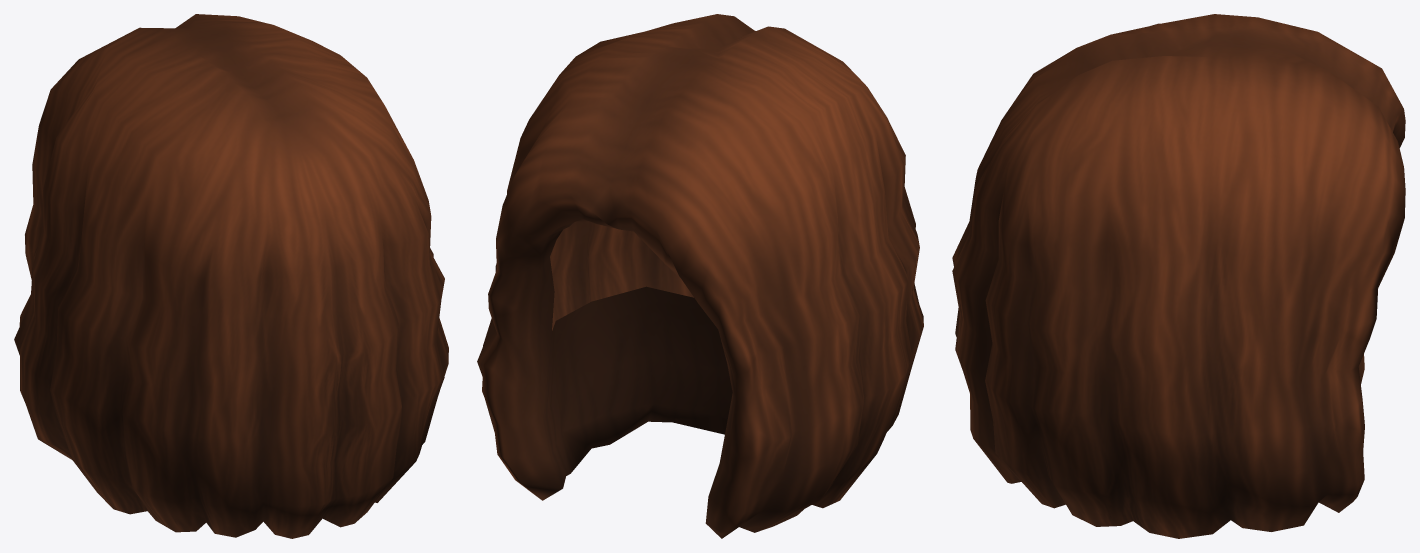
File: Hair_Female_006_textured_brown.glb
The picture shows the model from 3 angles, left to right: view 1: azimuth 30°, elevation 25°; view 2: azimuth 150°, elevation 25°; view 3: azimuth 270°, elevation 25°; orthographic projection. The views are drawn at different scales.
Parts seen in each view (by area): view 1: Hair_Female_006; view 2: Hair_Female_006; view 3: Hair_Female_006.
Part boxes in pixels (x1,y1,x2,y2): Hair_Female_006: [14, 14, 448, 538]; Hair_Female_006: [477, 14, 923, 538]; Hair_Female_006: [952, 14, 1405, 538].
Bounding box in the file's own units: 0.2471 × 0.277 × 0.2597.
Materials: 1 (1 with a texture image).
